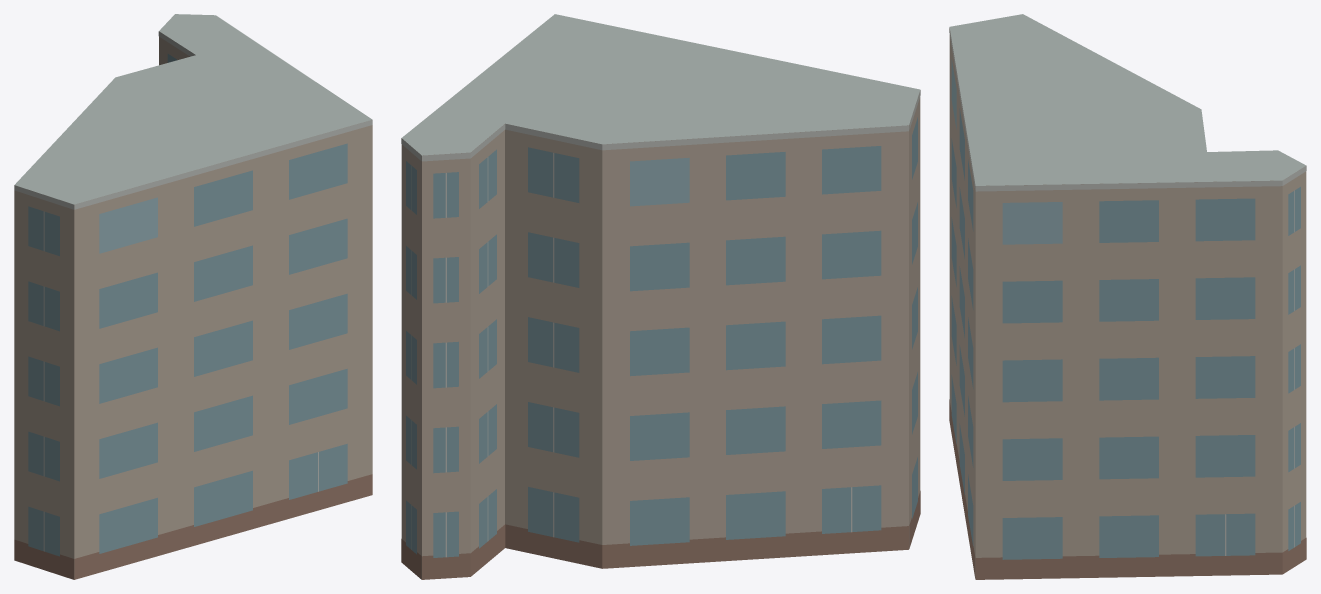
The model's file is survey-upis-33040920.glb.
The picture shows the model from 3 angles, left to right: view 1: azimuth 30°, elevation 25°; view 2: azimuth 150°, elevation 25°; view 3: azimuth 270°, elevation 25°; orthographic projection. The views are drawn at different scales.
Visible parts, largest first — view 1: survey-upis-33040920.tmp; view 2: survey-upis-33040920.tmp; view 3: survey-upis-33040920.tmp.
Boxes of the visible parts, <box> form: survey-upis-33040920.tmp: <box>14,14,372,579</box>; survey-upis-33040920.tmp: <box>401,14,920,579</box>; survey-upis-33040920.tmp: <box>949,14,1306,579</box>.
Bounding box in the file's own units: 16.24 × 17.33 × 14.24.
